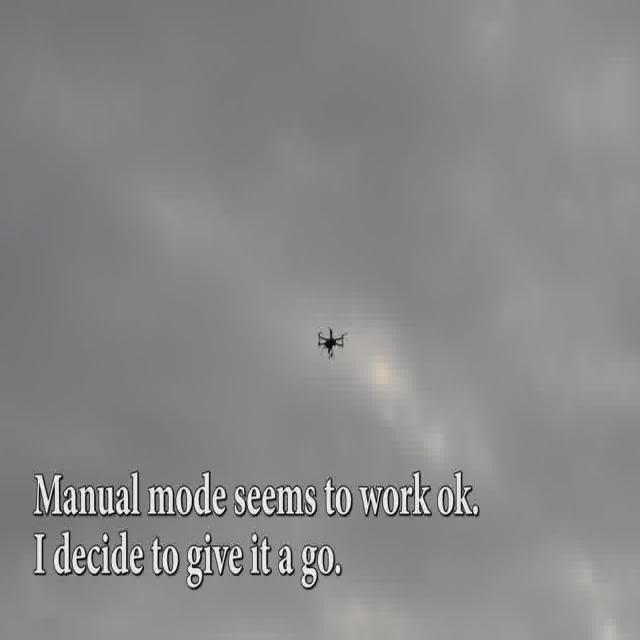drone: (317, 326, 347, 362)
